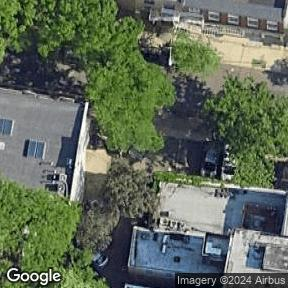vegetation: (0, 158, 188, 288), (207, 77, 288, 186), (163, 31, 223, 85)
